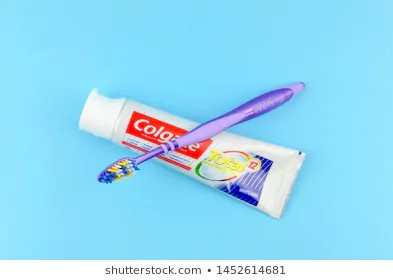colgate-total-150gm: (78, 87, 306, 221)
toothbrush: (93, 145, 175, 187)
